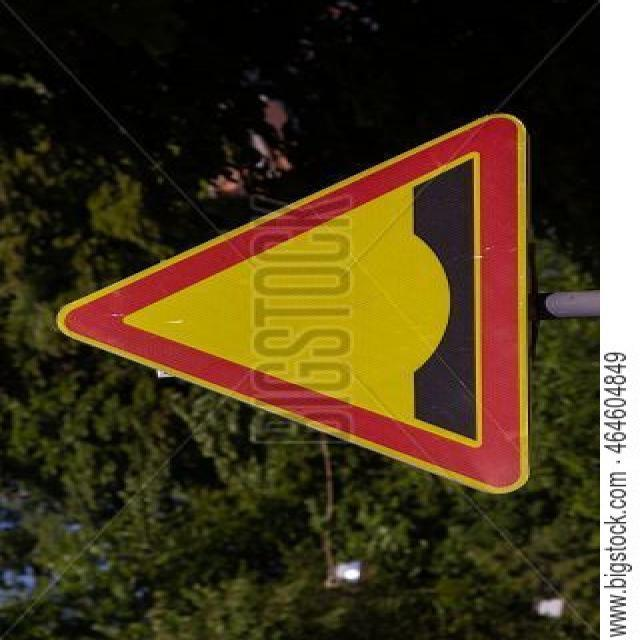Traffic sign: (47, 107, 540, 502)
